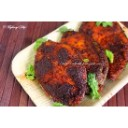seerfish: (37, 41, 83, 104), (79, 21, 128, 78), (63, 32, 108, 92)
